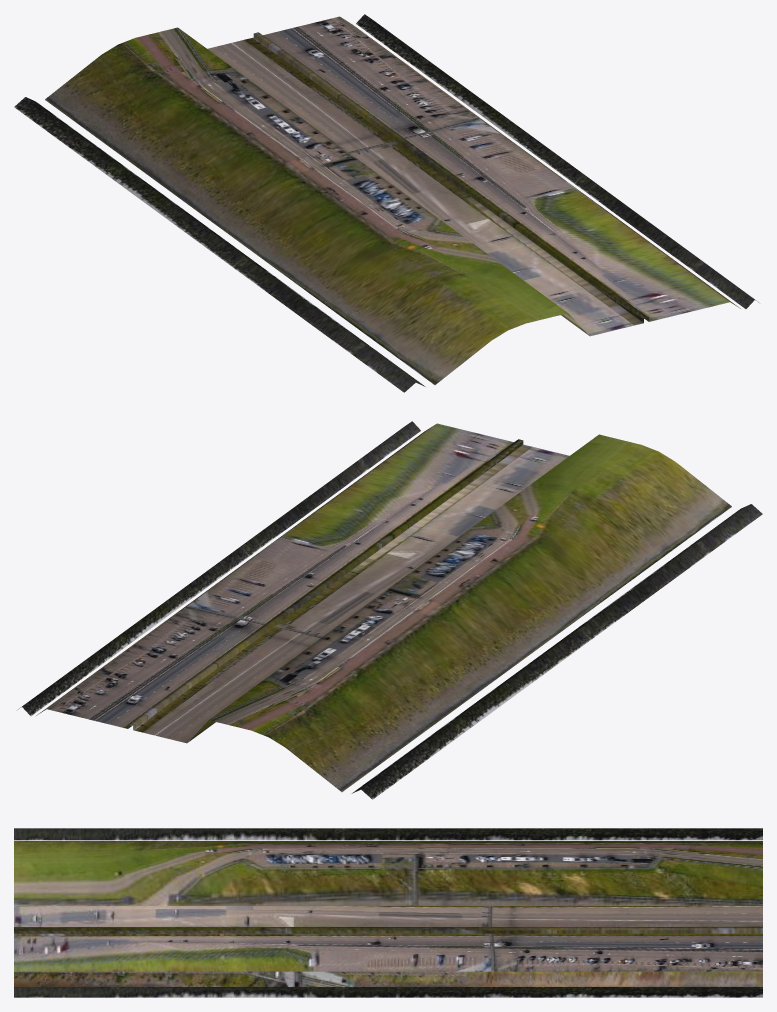
The model's file is SM_Blockout_Dijk_projected.fbx.
3 views of the same model, one above another, from view 1: azimuth 30°, elevation 25°; view 2: azimuth 150°, elevation 25°; view 3: azimuth 270°, elevation 25° (orthographic). The views are drawn at different scales.
Visible parts, largest first — view 1: afsluitdijk; view 2: afsluitdijk; view 3: afsluitdijk.
Boxes of the visible parts, box(x1,y1,x2,y2) form: afsluitdijk: box(14, 14, 758, 392); afsluitdijk: box(18, 421, 762, 799); afsluitdijk: box(14, 828, 762, 997).
Size of the model in its own units: 5304 by 561 by 10000.
Materials: 1 (1 with a texture image).
